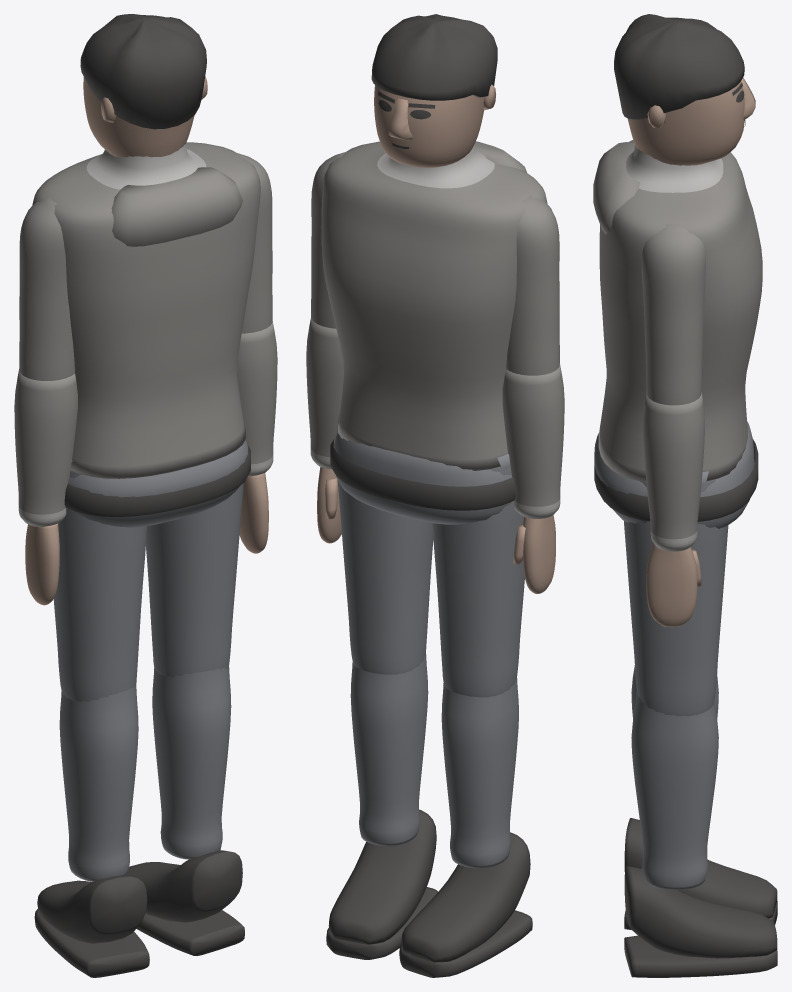
Rendered from thug.glb.
The picture shows the model from 3 angles, left to right: view 1: azimuth 30°, elevation 25°; view 2: azimuth 150°, elevation 25°; view 3: azimuth 270°, elevation 25°; orthographic projection.
Parts seen in each view (by area): view 1: body_jacket, body_thighR, body_thighL, body_shinL, body_shinR, body_hair, body_bootR, body_bootL, body_hips, body_armR, body_forearmR, body_forearmL (+4 smaller); view 2: body_jacket, body_thighR, body_thighL, body_shinL, body_shinR, body_bootR, body_hips, body_bootL, body_hair, body_forearmR, body_armR, body_head (+4 smaller); view 3: body_jacket, body_shinL, body_thighL, body_bootL, body_armL, body_hair, body_forearmL, body_head, body_hips, body_bootR, body_handL.
Boxes of the visible parts, x1,y1,x2,y2 form: body_jacket: (32,142,260,478); body_thighR: (53,461,146,702); body_thighL: (146,483,243,677); body_shinL: (152,666,231,859); body_shinR: (59,685,138,881); body_hair: (80,14,206,129); body_bootR: (34,875,149,977); body_bootL: (126,850,244,955); body_hips: (64,440,250,527); body_armR: (19,197,74,380); body_forearmR: (14,369,77,527); body_forearmL: (237,321,277,476); body_jacket: (321,141,547,470); body_thighR: (432,454,524,697); body_thighL: (337,415,433,674); body_shinL: (350,654,428,846); body_shinR: (441,678,518,868); body_bootR: (399,832,532,977); body_hips: (330,433,515,524); body_bootL: (326,809,437,959); body_hair: (371,14,497,100); body_forearmR: (502,363,564,518); body_armR: (506,195,559,375); body_head: (374,84,495,167); body_jacket: (593,140,762,481); body_shinL: (631,690,718,889); body_thighL: (624,471,728,716); body_bootL: (624,866,777,977); body_armL: (641,224,705,405); body_hair: (614,14,744,119); body_forearmL: (643,392,704,551); body_head: (627,77,755,165); body_hips: (594,421,758,528); body_bootR: (624,818,777,929); body_handL: (646,544,701,627).
Bounding box in the file's own units: 0.525 × 1.82 × 0.3308.
